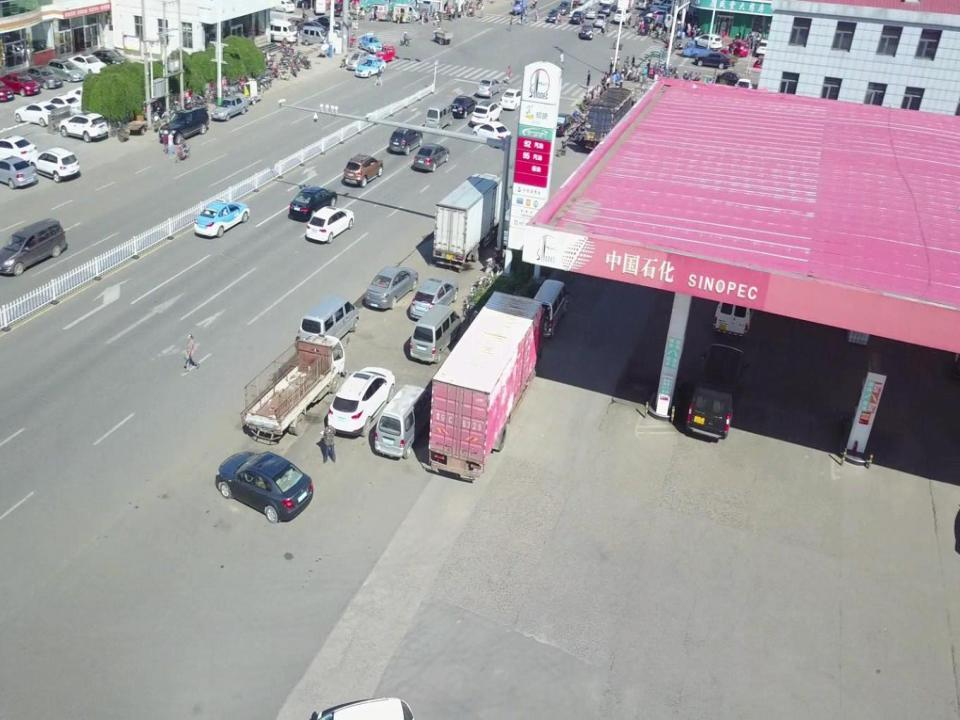car: (216, 449, 315, 522), (328, 365, 396, 437), (364, 264, 418, 308), (194, 197, 249, 237), (409, 277, 459, 320), (159, 105, 209, 144), (306, 206, 355, 243), (29, 146, 79, 182), (288, 184, 336, 219), (59, 111, 108, 141), (342, 154, 384, 187), (14, 101, 59, 127), (1, 156, 36, 188), (45, 57, 88, 82), (388, 125, 423, 155), (1, 133, 37, 162), (413, 143, 449, 171), (0, 72, 40, 96), (211, 96, 248, 121), (25, 64, 63, 88), (67, 53, 107, 75), (472, 121, 512, 143), (90, 48, 130, 68), (472, 100, 503, 125), (43, 94, 81, 114), (68, 86, 104, 105), (354, 55, 386, 76), (450, 94, 478, 118), (548, 113, 576, 136), (695, 51, 732, 68), (500, 88, 526, 111), (716, 68, 747, 86), (477, 76, 501, 98), (359, 32, 383, 53), (695, 33, 723, 51), (347, 50, 369, 70), (726, 38, 750, 56), (313, 15, 341, 30), (735, 79, 753, 98), (330, 2, 351, 16), (614, 7, 632, 22), (759, 38, 771, 58), (581, 22, 594, 40), (557, 1, 572, 15), (571, 10, 585, 24), (546, 8, 559, 22), (594, 14, 606, 26), (600, 3, 611, 15), (585, 6, 595, 18)
truck: (426, 289, 545, 479), (241, 333, 346, 440), (432, 172, 513, 269), (584, 86, 635, 152)
van: (684, 340, 746, 439), (374, 384, 435, 458), (0, 216, 66, 275), (294, 295, 360, 349), (714, 267, 763, 335), (410, 304, 462, 364), (533, 279, 568, 337), (425, 103, 454, 131), (265, 19, 300, 42), (392, 3, 420, 22), (303, 26, 330, 44), (272, 0, 295, 13), (315, 0, 326, 15)
